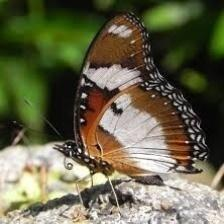butterfly: (56, 13, 208, 184)
